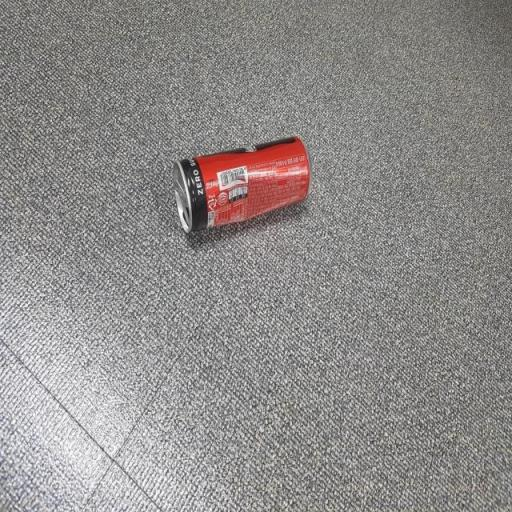metal: (160, 112, 344, 278)
